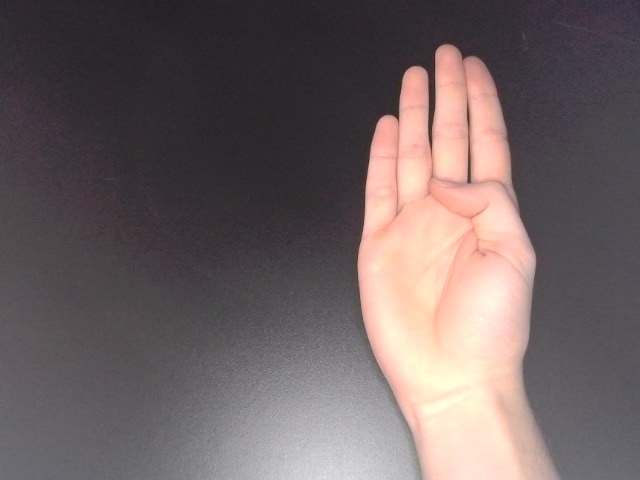b: (351, 40, 540, 413)
